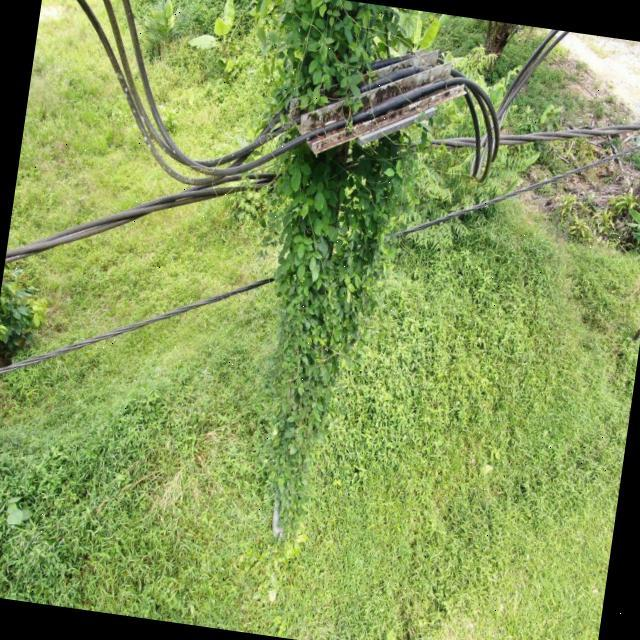critical vegetation: (218, 28, 426, 510)
